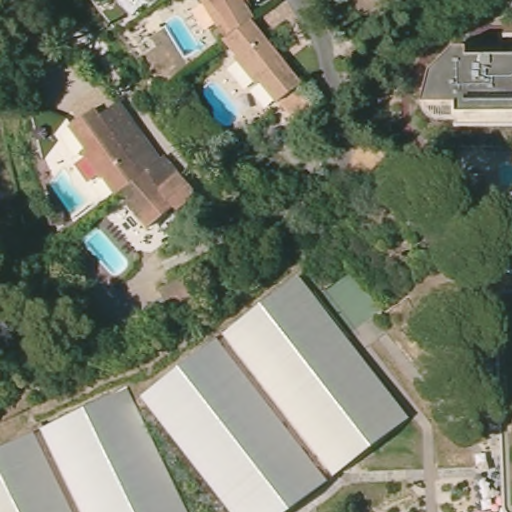pool: (83, 229, 130, 276), (199, 82, 242, 130), (45, 173, 87, 217), (163, 14, 204, 56)
